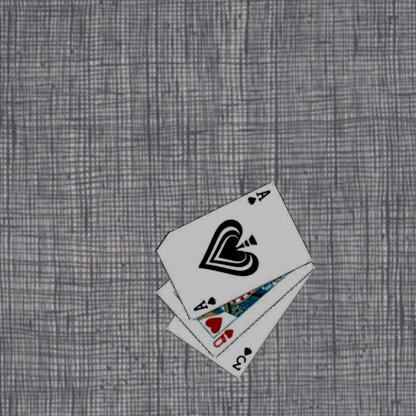3S: (230, 344, 253, 372)
AS: (245, 188, 272, 206), (191, 294, 217, 312)
QH: (210, 327, 235, 349)
